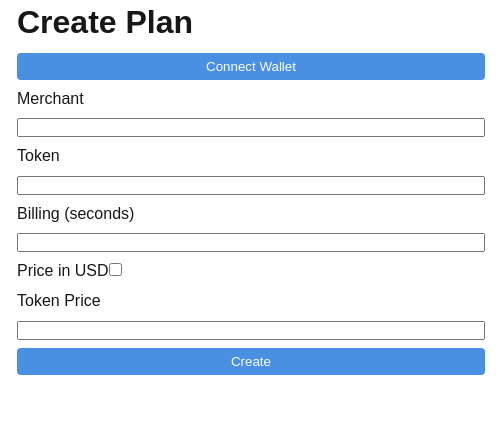
it: validates merchant address
Type "foo" into the field labelled "Merchant" at {"x": 251, "y": 128}, box [17,118,485,137]
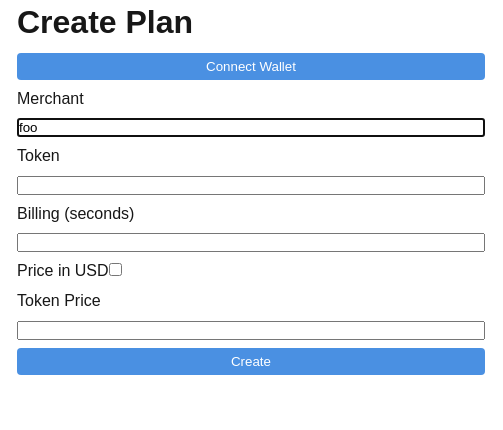
Type "0x1111111111111111111111111111111111111111" into the field labelled "Token" at {"x": 251, "y": 185}, box [17,176,485,195]
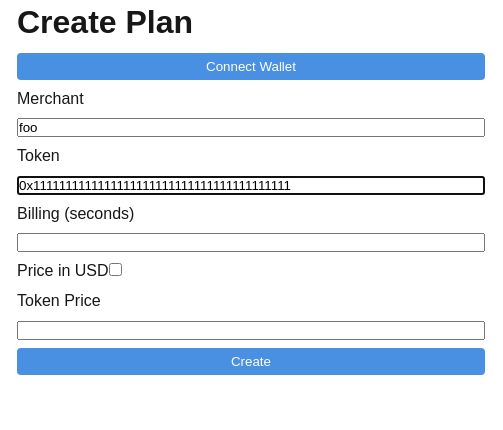
Type "1" into the field labelled "Billing (seconds)" at {"x": 251, "y": 242}, box [17,233,485,252]
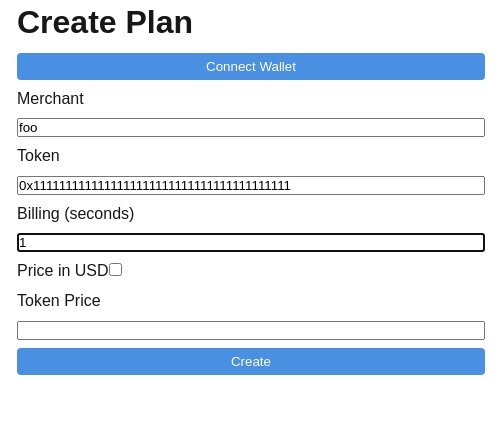
Type "1" into the field labelled "Token Price" at {"x": 251, "y": 330}, box [17,321,485,340]
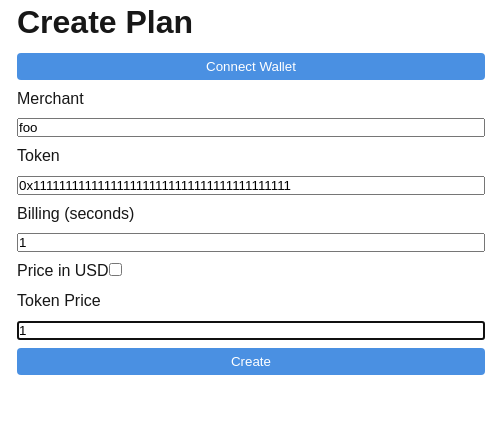
Click the button "Create" at {"x": 251, "y": 361}, box [17,348,485,375]
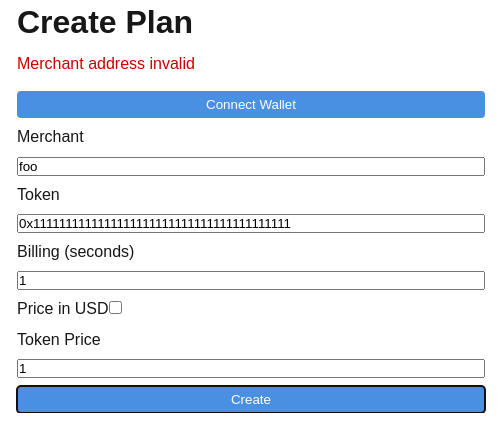
Now the text "Merchant address invalid" is shown, box [17,55,195,72]
